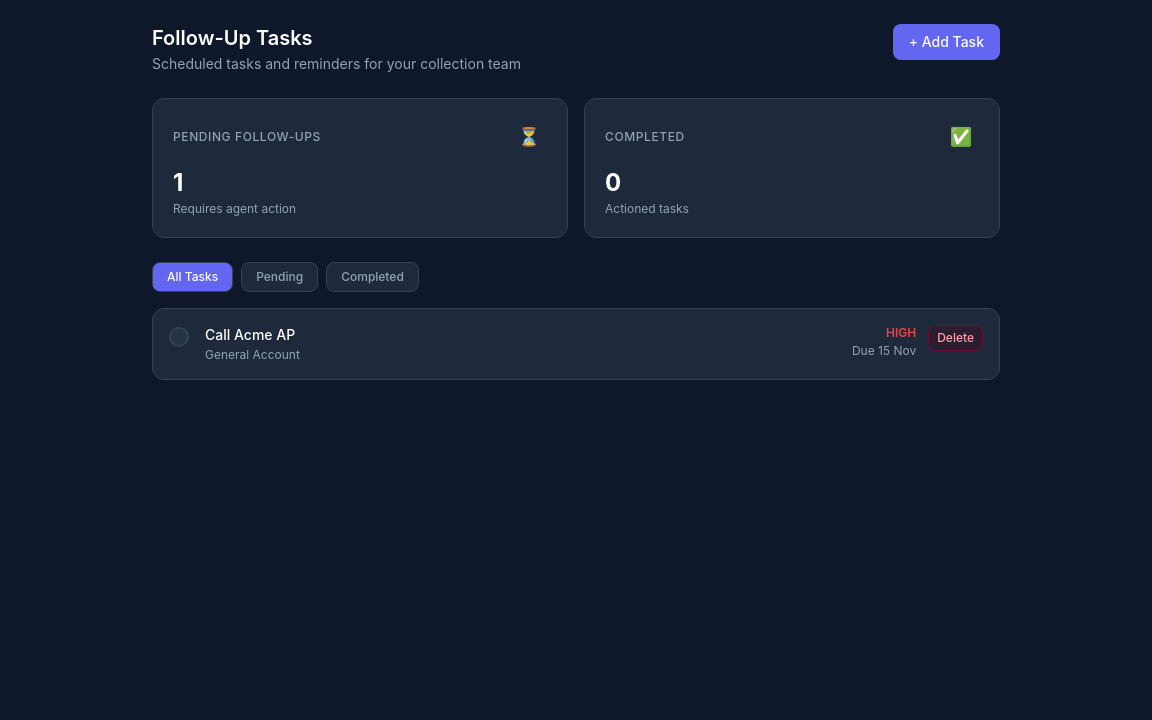
Test: P2-07: Responsive Web Shell, Toast, ConfirmDialog, ErrorBoundary & Error Feedback › Confirmation dialogs & duplicate submit prevention › confirms Follow-Up deletion via ConfirmDialog and prevents duplicate DELETE requests
Step 1. Click the button with aria-label "Delete task Call Acme AP" → (956, 338), box [928,325,983,351]
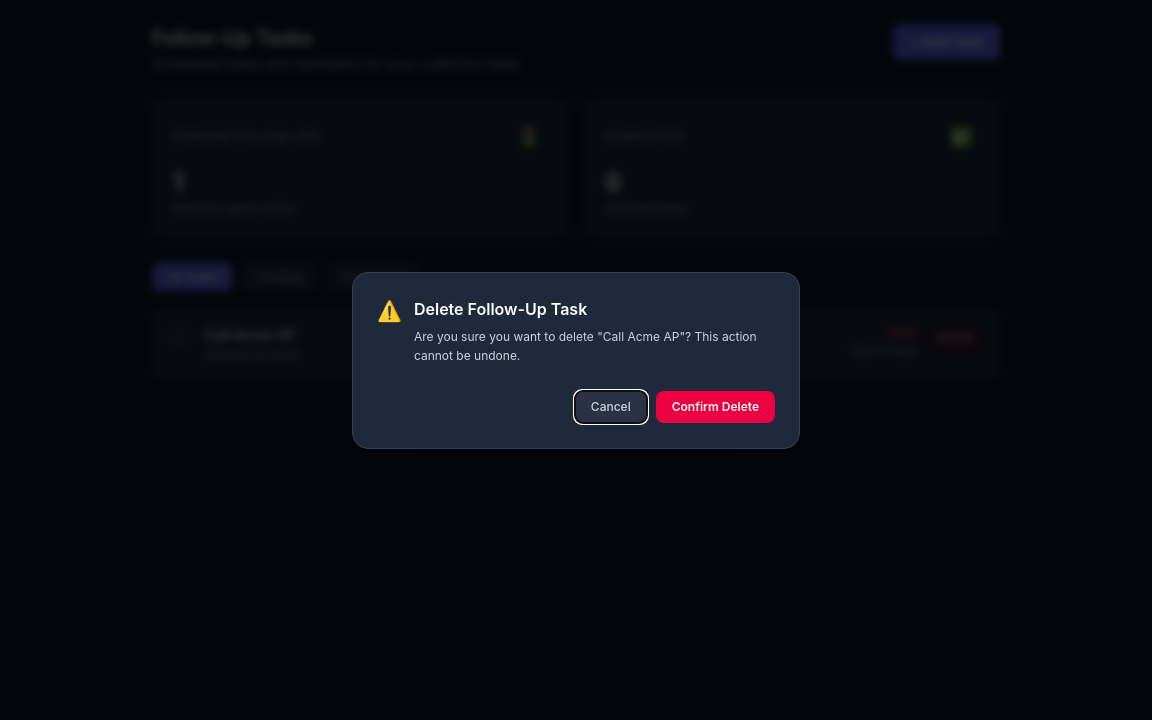
Check: the heading "Delete Follow-Up Task" is shown, box [414,298,587,318]
# Cancel aborts deletion
Step 2. Click the button "Cancel" → (611, 406), box [574,390,648,424]
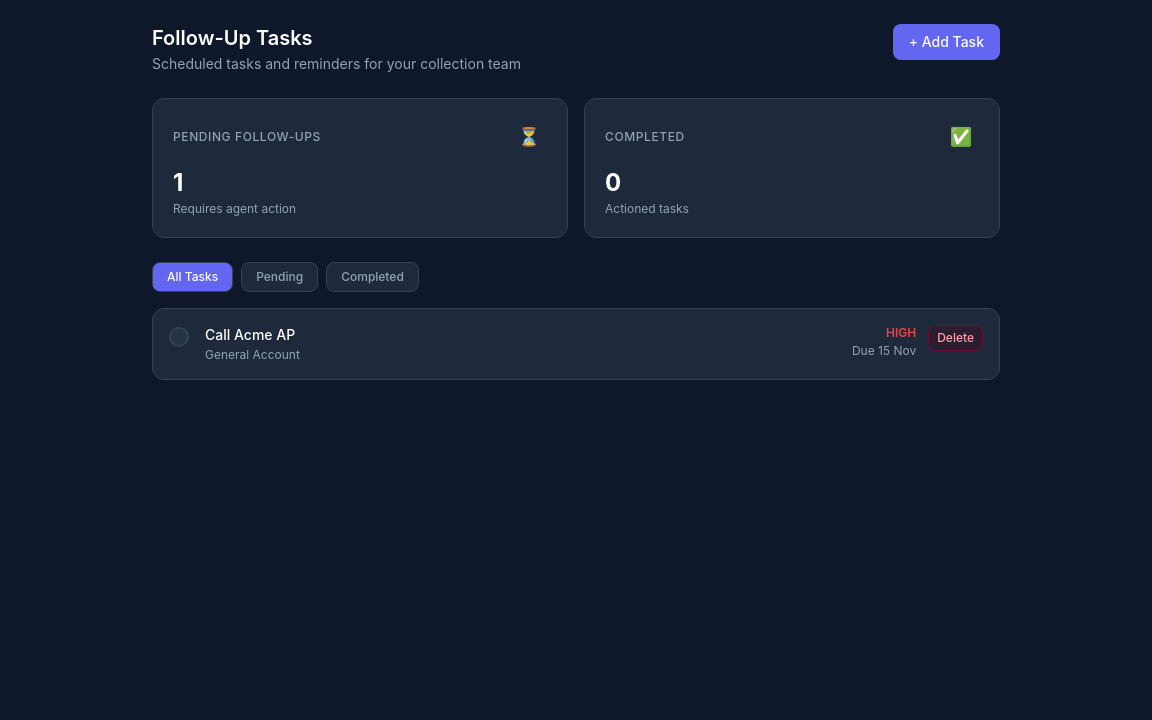
# Confirm deletion and click rapidly twice while pending
Step 3. Click the button with aria-label "Delete task Call Acme AP" → (956, 338), box [928,325,983,351]
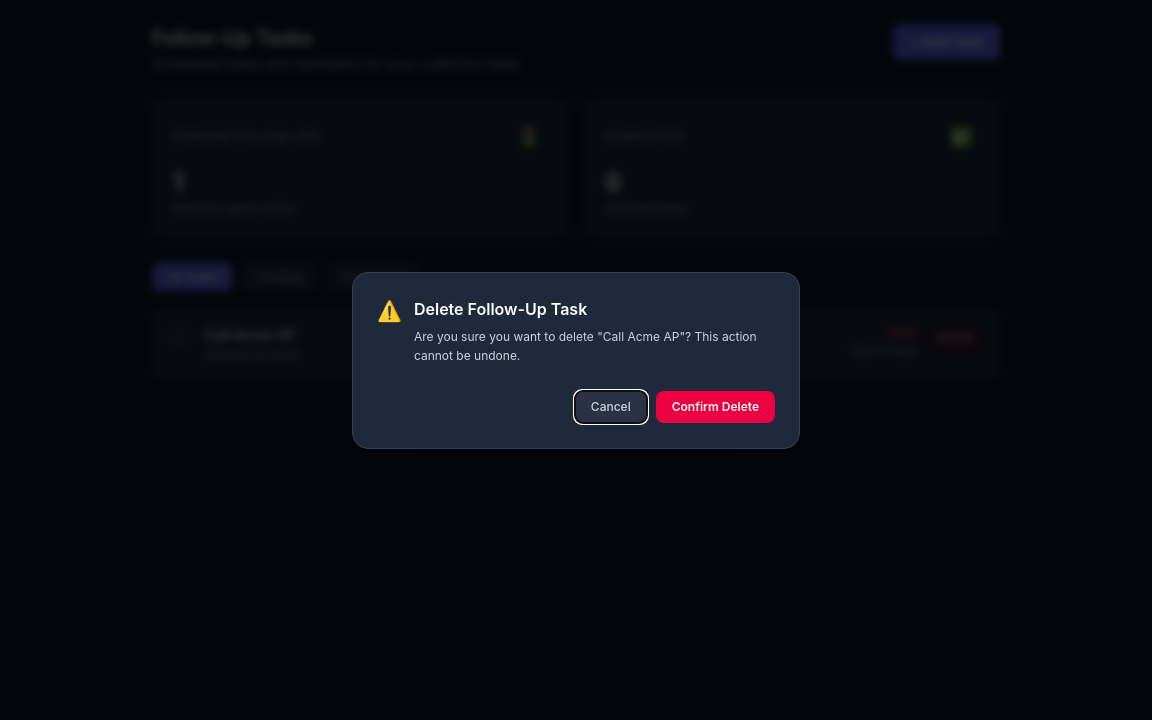
Step 4. Double-click the button "Confirm Delete" → (715, 406), box [656,390,775,422]
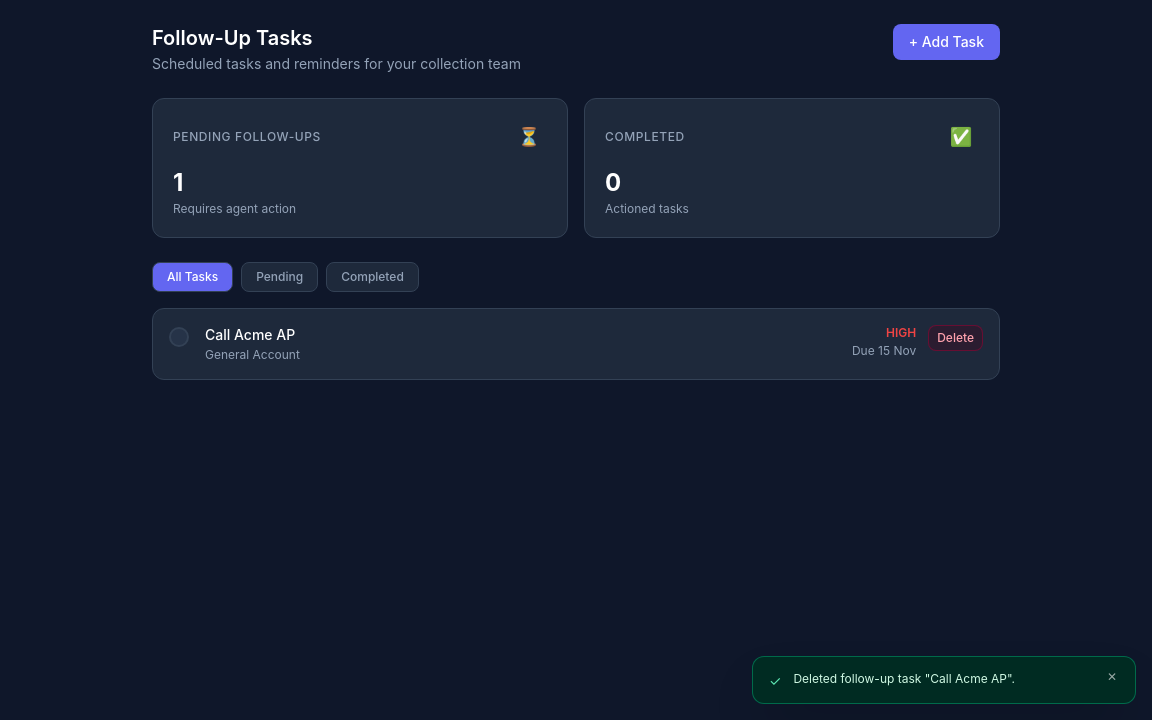
Check: the text "Deleted follow-up task \"Call Acme AP\"." is shown, box [793,671,1015,686]
